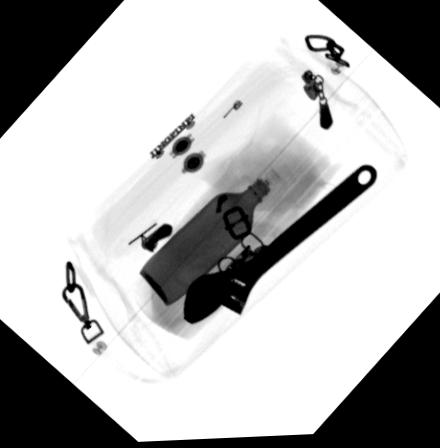Wrench: (177, 166, 379, 328)
